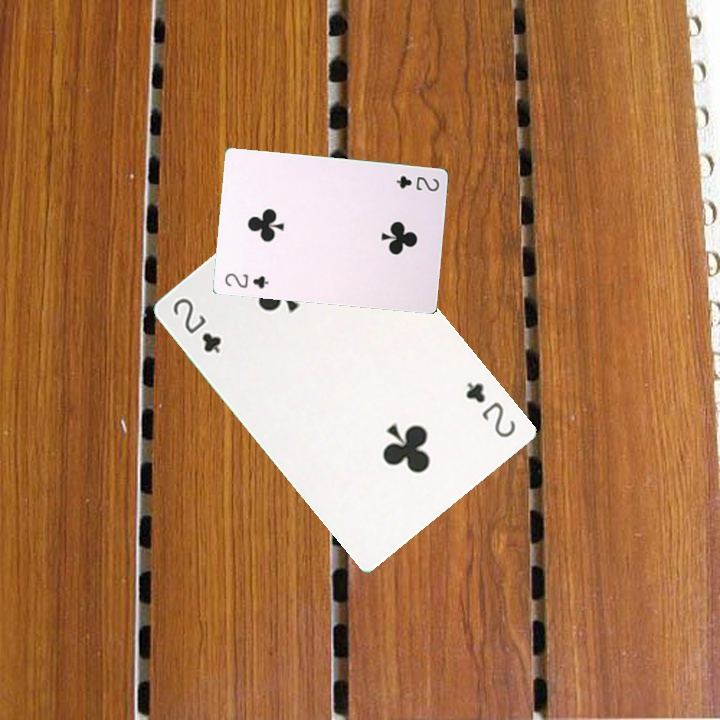2c: (461, 377, 519, 441), (168, 293, 224, 356), (221, 269, 271, 291), (392, 172, 442, 194)
